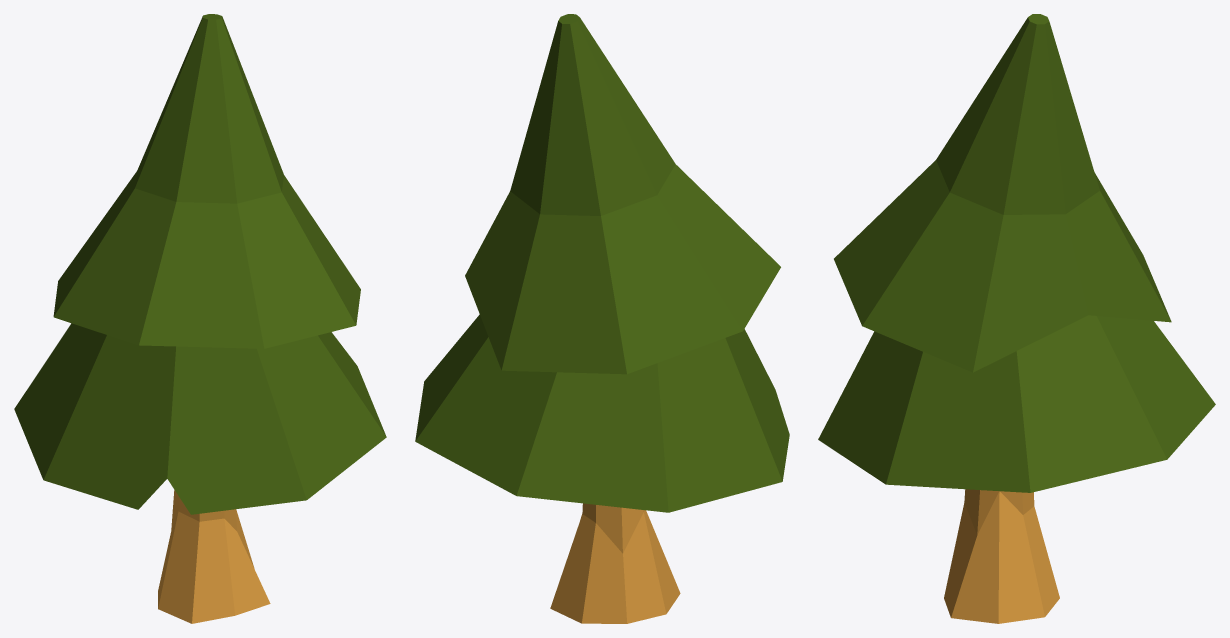
The model's file is object_landscape_tree_deciduous_young.glb.
3 views of the same model, side by side, from view 1: azimuth 30°, elevation 25°; view 2: azimuth 150°, elevation 25°; view 3: azimuth 270°, elevation 25° (orthographic). The views are drawn at different scales.
Visible parts, largest first — view 1: object_landscape_tree_deciduous_young; view 2: object_landscape_tree_deciduous_young; view 3: object_landscape_tree_deciduous_young.
Boxes of the visible parts, box(x1,y1,x2,y2) form: object_landscape_tree_deciduous_young: box(14, 14, 386, 623); object_landscape_tree_deciduous_young: box(415, 14, 789, 623); object_landscape_tree_deciduous_young: box(818, 14, 1215, 623).
Size of the model in its own units: 0.2506 by 0.4114 by 0.2507.
